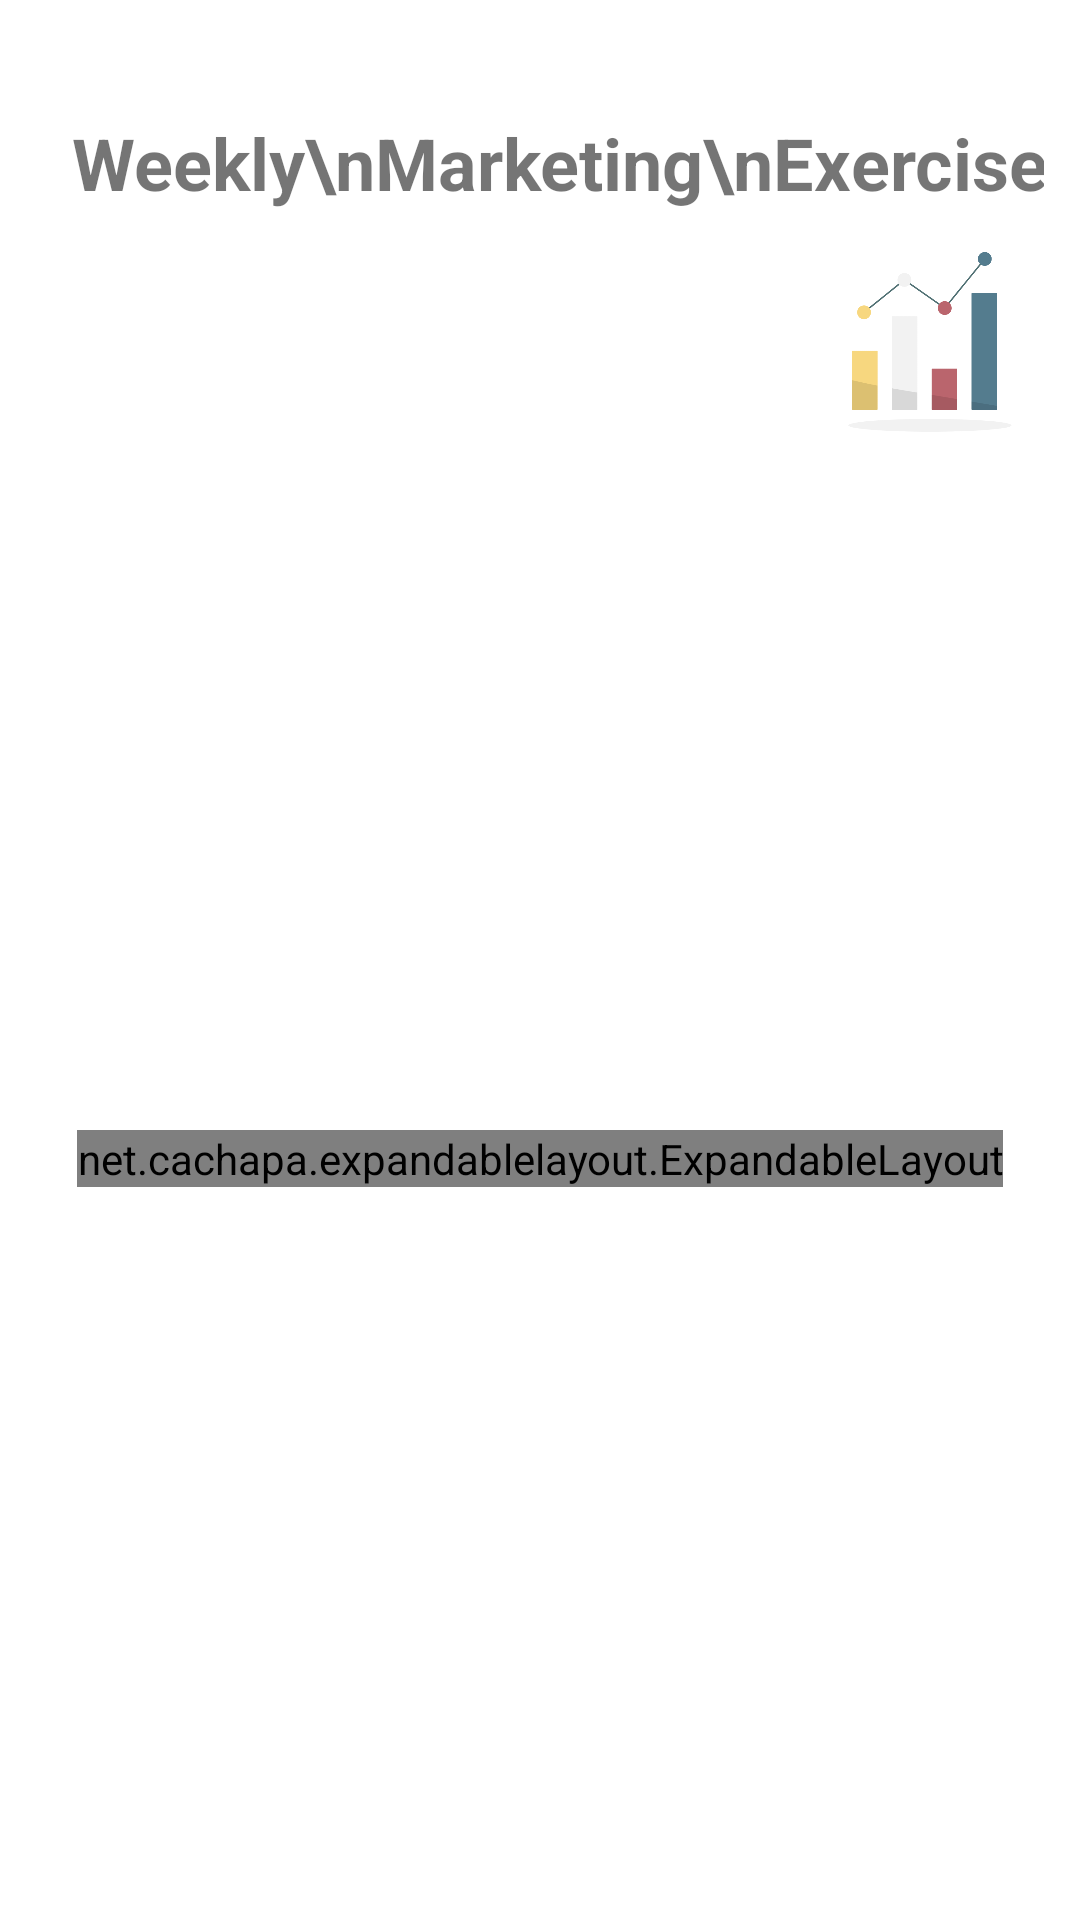

Point at icon controls on the screen. Image size 1080 × 1920, points as point (x, y).
analysis: point (924, 331)
